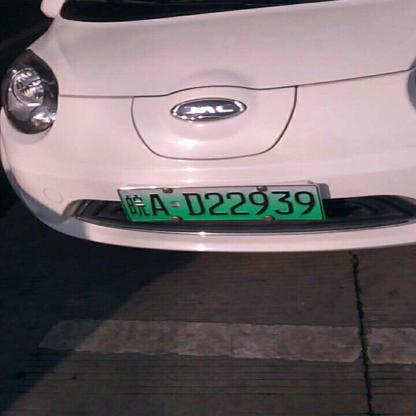lp: (119, 185, 324, 220)
